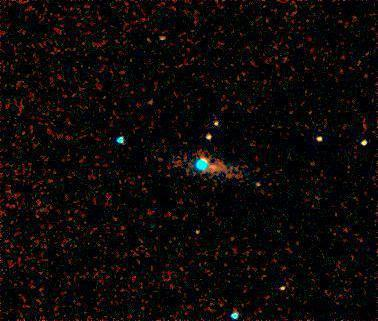star: (140, 88, 170, 118)
